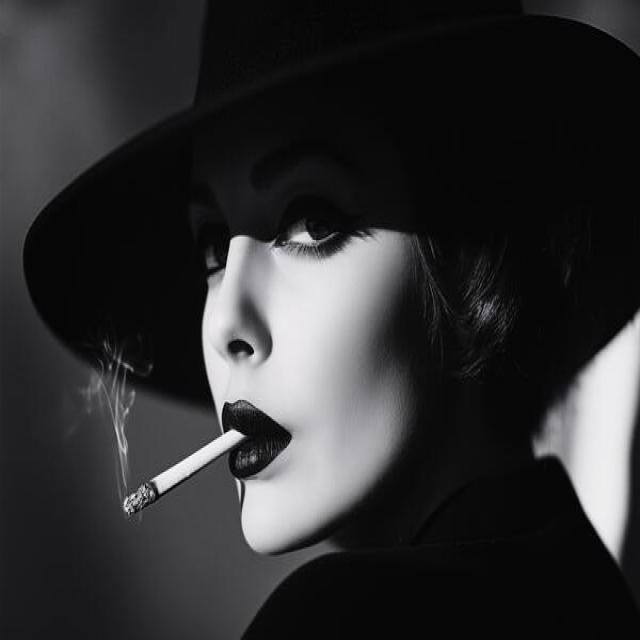cigarette: (123, 429, 247, 517)
